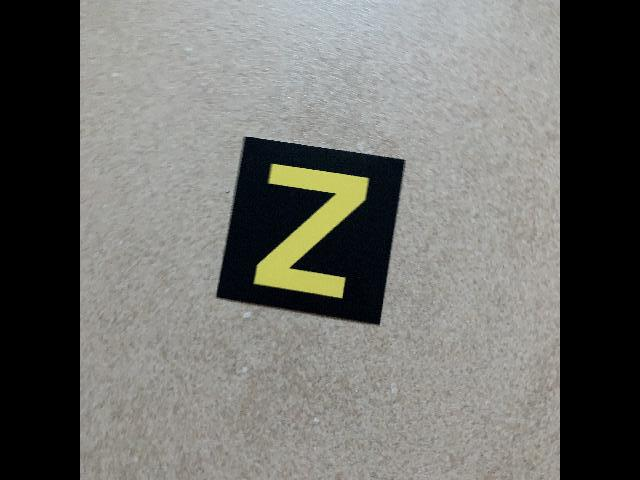alphabet_z: (213, 134, 409, 333)
